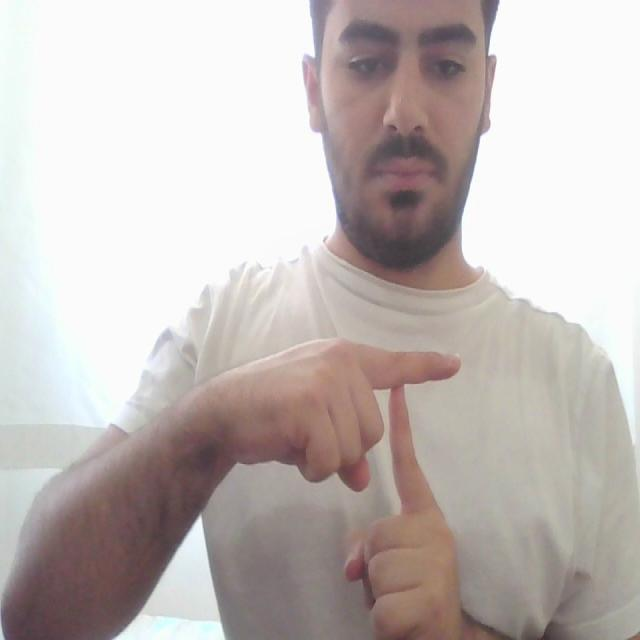Tesekkurler: (344, 319, 470, 541)
